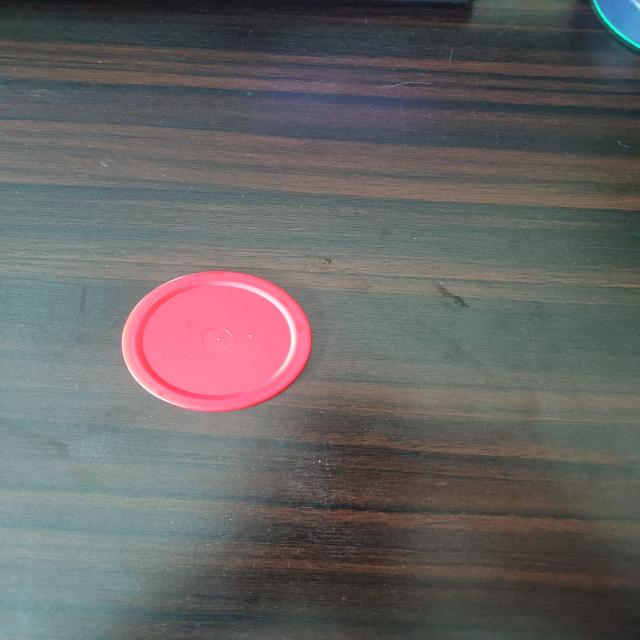chip: (122, 272, 311, 412)
